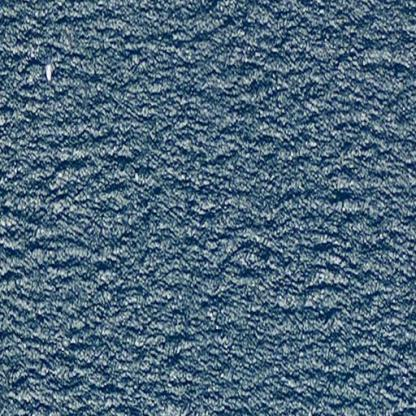ship: (44, 70, 52, 73)
